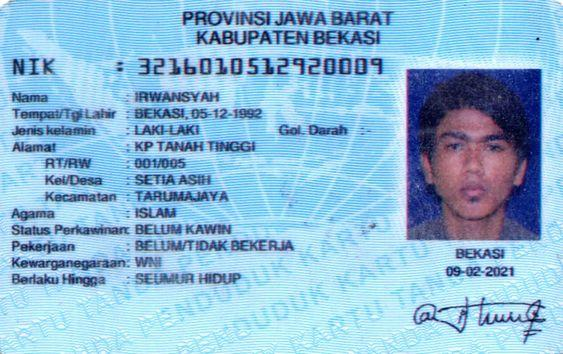ID-card: (3, 1, 562, 350)
